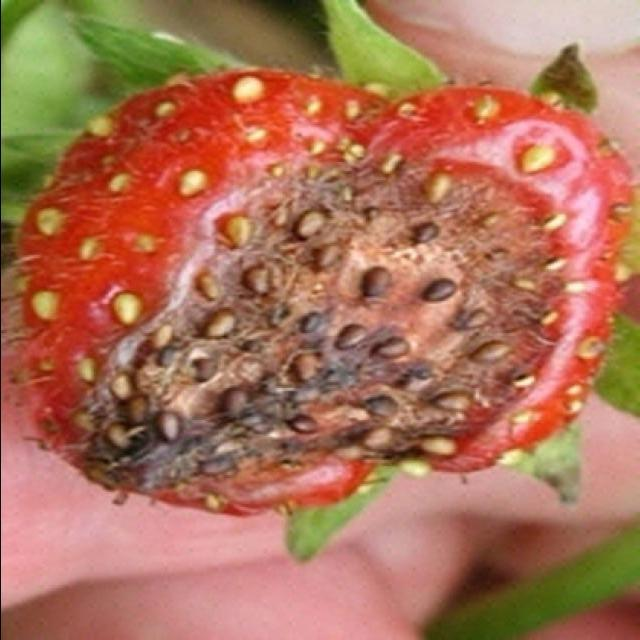Anthracnose Fruit Rot: (14, 45, 632, 517)
